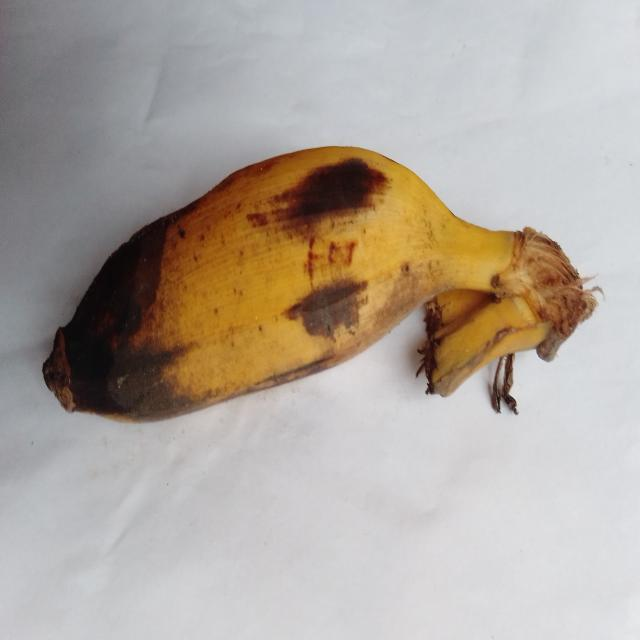banana: (44, 147, 595, 420)
